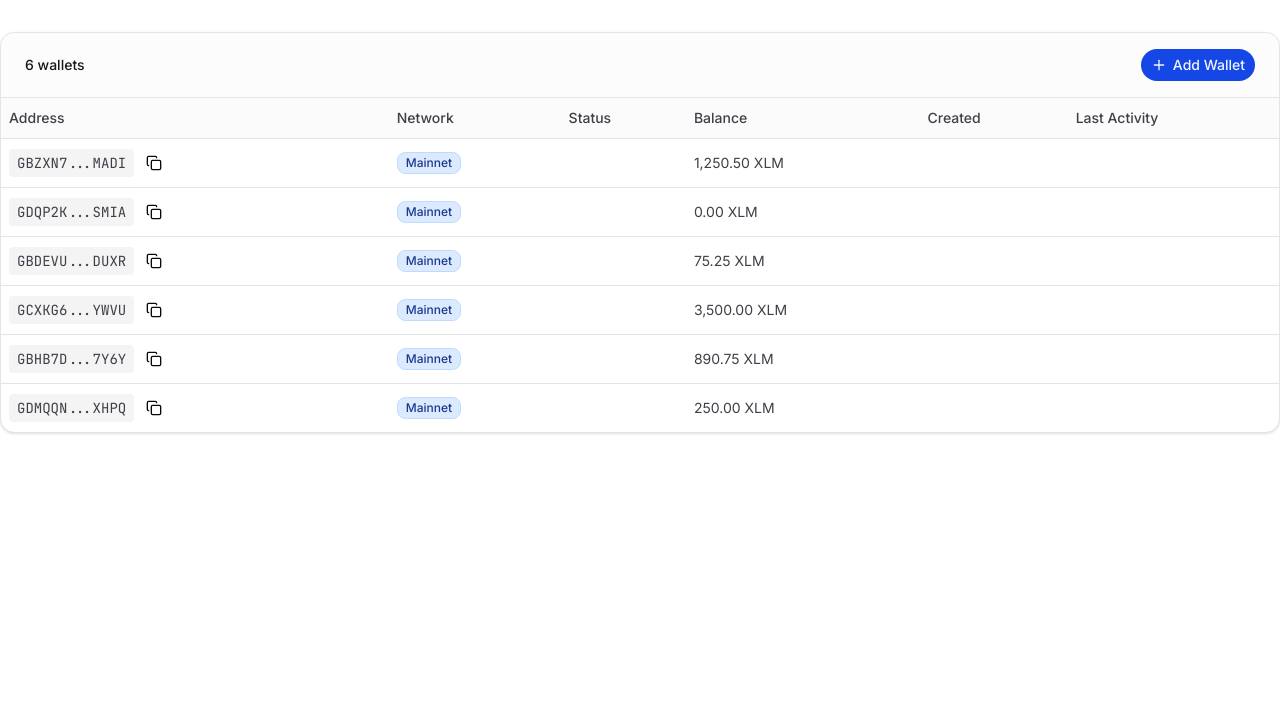
WalletsPage (/demo/dashboard/wallets) › Add Wallet modal › closes the modal when Cancel is clicked
Expected: the table is shown, [1,98,1279,432]
Click the button "Add Wallet" at [1198, 65], box [1141,49,1255,81]
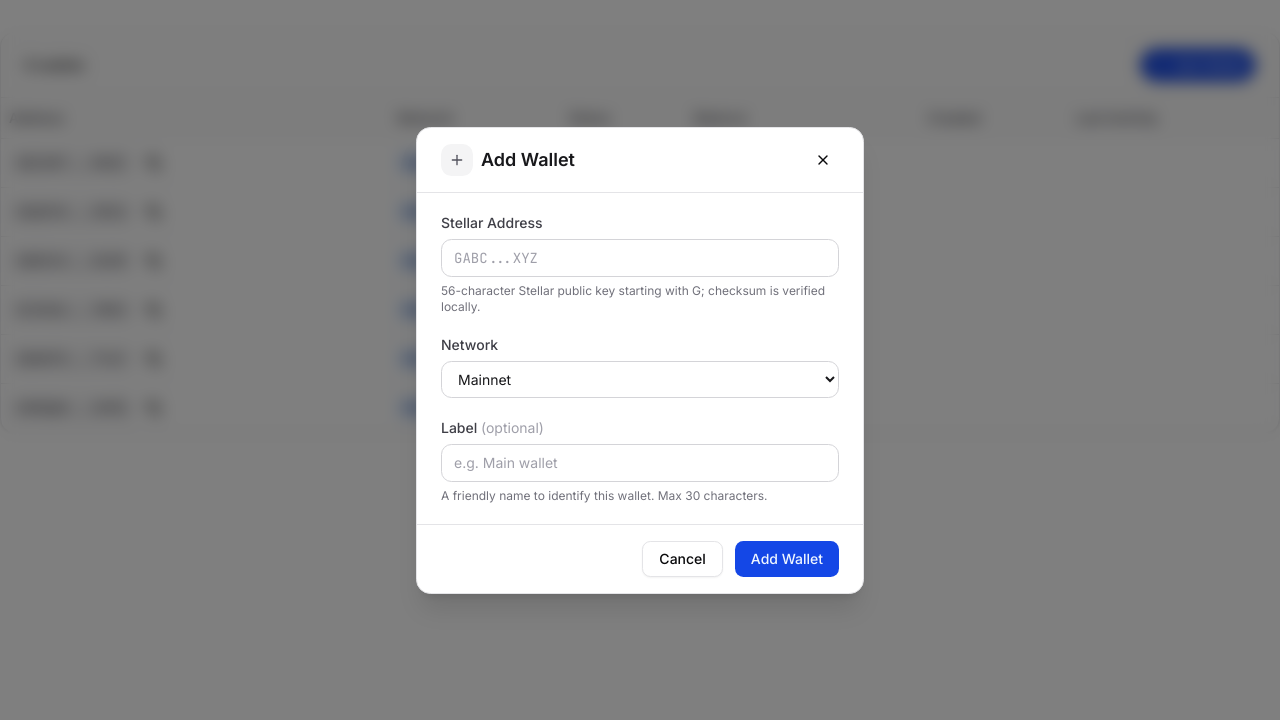
Result: the dialog is shown
Click the button "Cancel" at [683, 558], box [642,540,723,576]
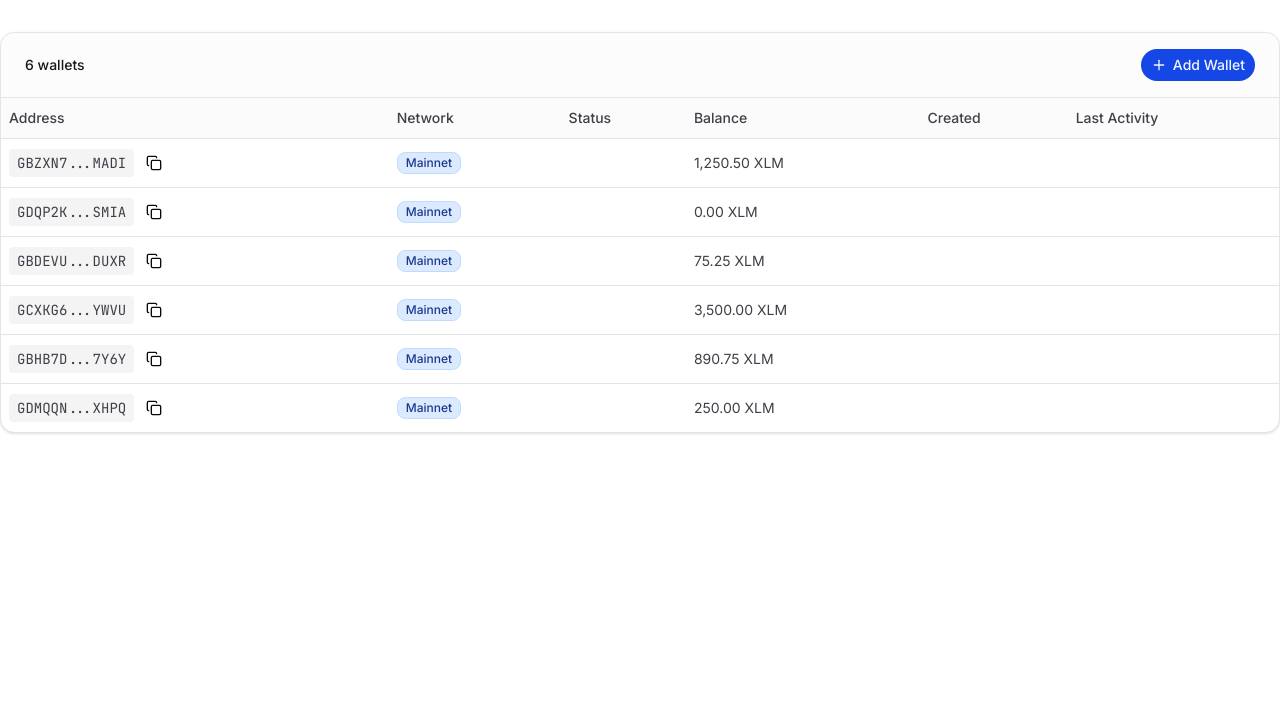
Result: the dialog is gone
